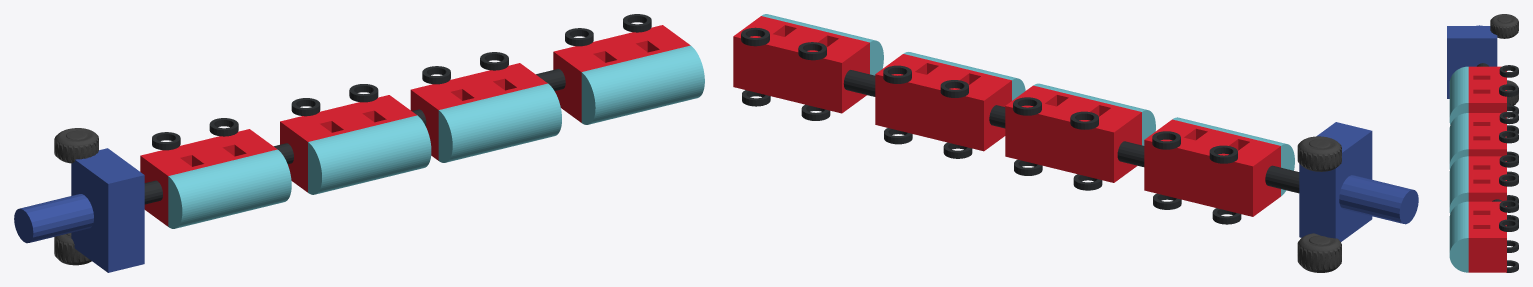
File: tinker.obj
3 renders of one model, left to right at view 1: azimuth 30°, elevation 25°; view 2: azimuth 150°, elevation 25°; view 3: azimuth 270°, elevation 25°, orthographic. The views are drawn at different scales.
Parts seen in each view (by area): view 1: group_0_7720667, group_0_15277357, group_0_3888547, group_0_2829873, group_0_4210752; view 2: group_0_15277357, group_0_2829873, group_0_3888547, group_0_7720667, group_0_4210752; view 3: group_0_15277357, group_0_7720667, group_0_2829873, group_0_3888547, group_0_4210752.
Part boxes in pixels (x1,y1,x2,y2): group_0_7720667: (168, 45, 704, 228); group_0_15277357: (140, 25, 690, 226); group_0_3888547: (14, 148, 144, 272); group_0_2829873: (144, 14, 651, 204); group_0_4210752: (54, 128, 98, 265); group_0_15277357: (733, 16, 1280, 216); group_0_2829873: (741, 27, 1299, 224); group_0_3888547: (1299, 122, 1418, 241); group_0_7720667: (761, 14, 1294, 196); group_0_4210752: (1297, 136, 1341, 272); group_0_15277357: (1468, 66, 1506, 272); group_0_7720667: (1449, 66, 1468, 272); group_0_2829873: (1477, 63, 1518, 272); group_0_3888547: (1447, 25, 1497, 98); group_0_4210752: (1490, 14, 1518, 105).
Bounding box in the file's own units: 217 × 39 × 30.
